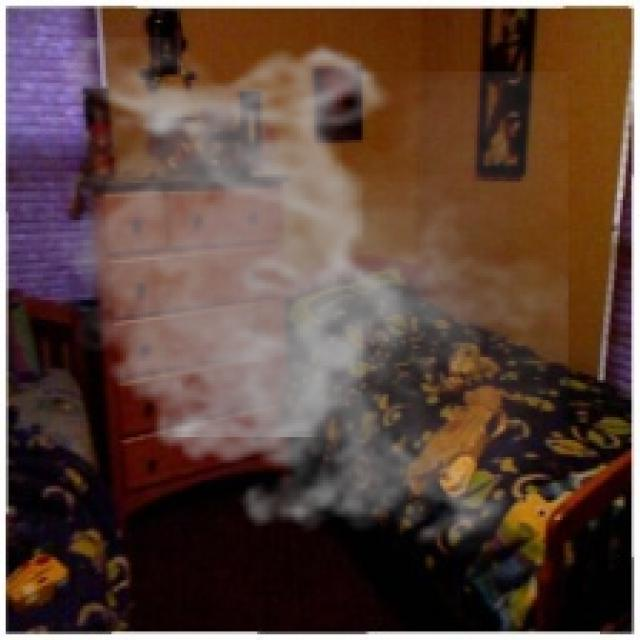smoke: (37, 37, 569, 560)
